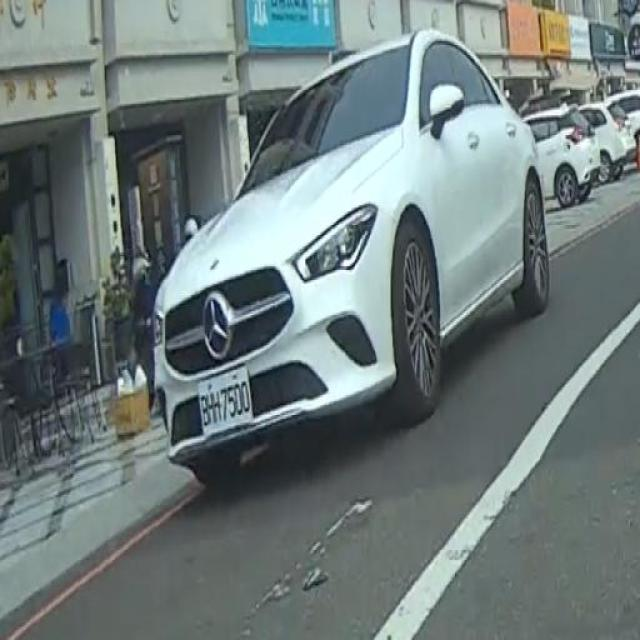Legalparking: (81, 16, 640, 489)
